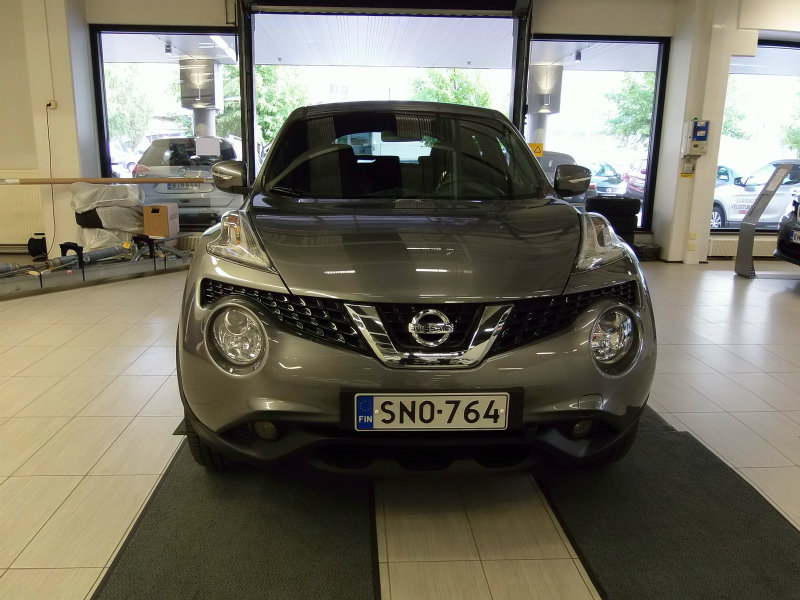license: (349, 388, 506, 430)
